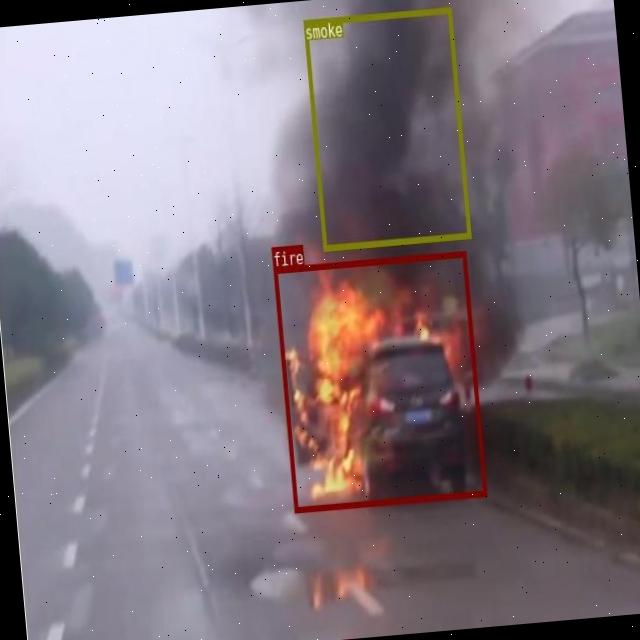fire: (272, 250, 486, 512)
smoke: (302, 7, 470, 248)
